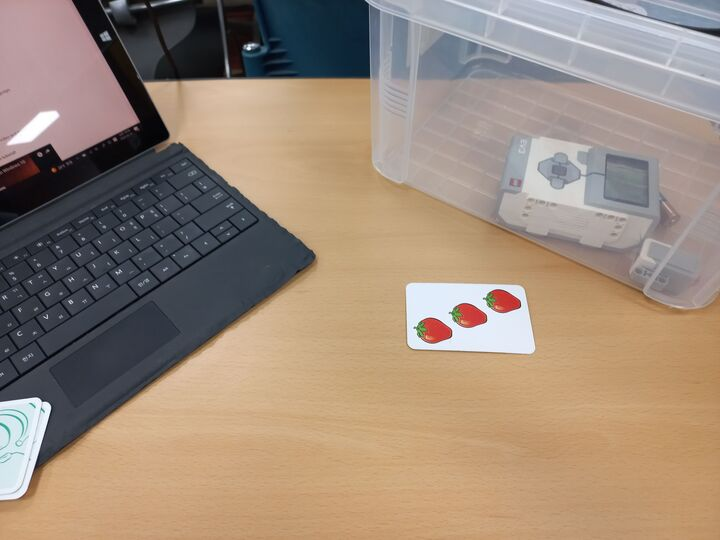strawberry3: (405, 279, 538, 356)
